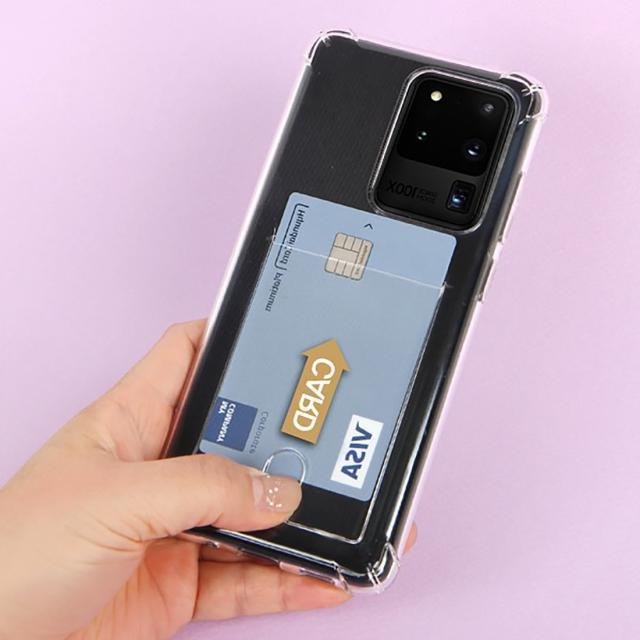mobile: (143, 30, 542, 582)
